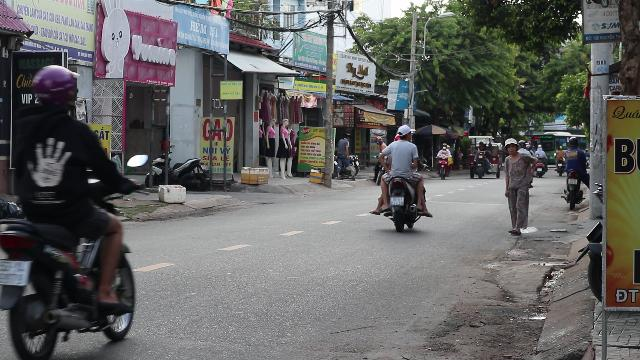helmet: (28, 64, 80, 114)
licenseplate: (0, 260, 28, 284), (391, 196, 404, 204)
motorcyclist: (1, 61, 141, 357), (371, 124, 432, 232)
nohelmet: (396, 124, 412, 140)
